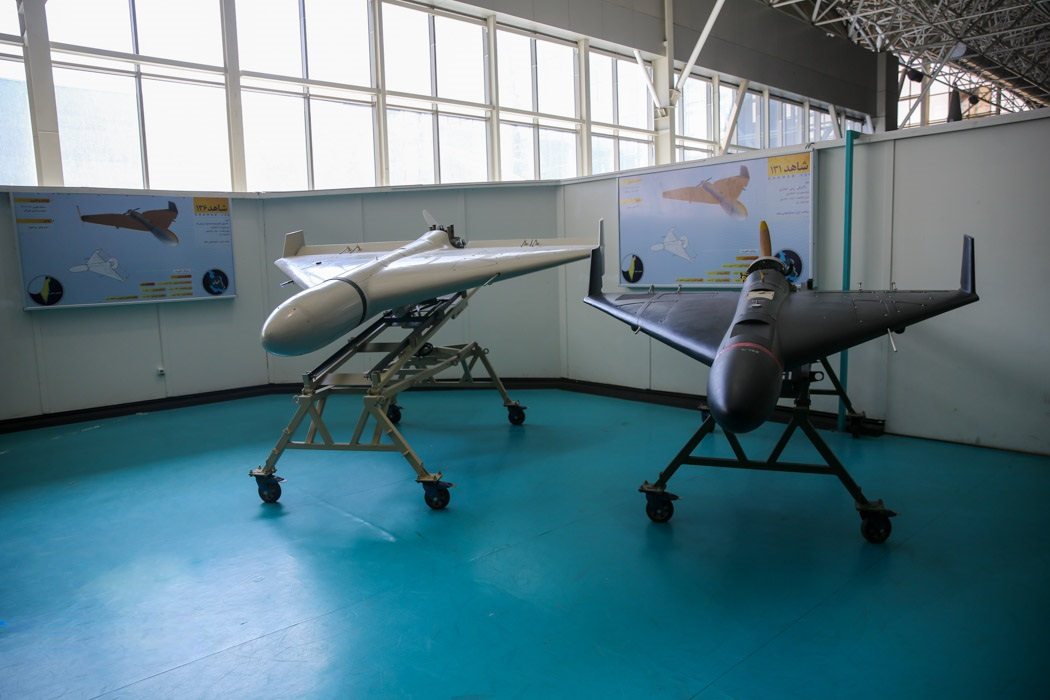shahed: (592, 218, 977, 437), (258, 205, 605, 356)
